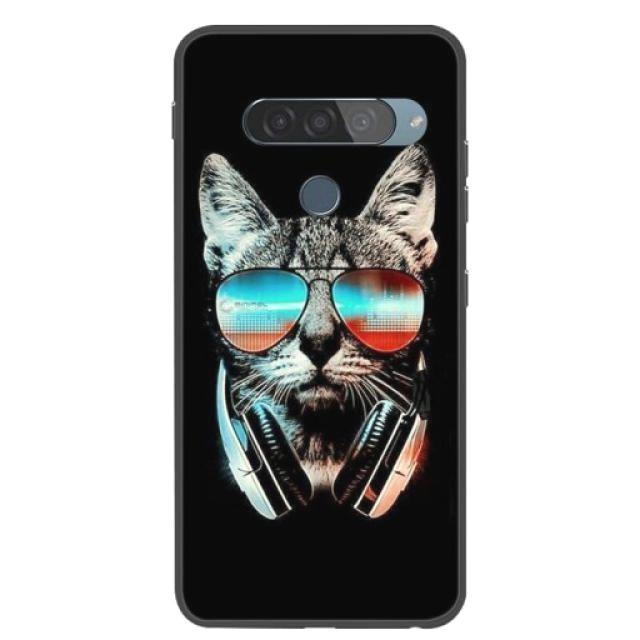lens: (242, 96, 412, 148)
phone: (166, 19, 470, 630)
